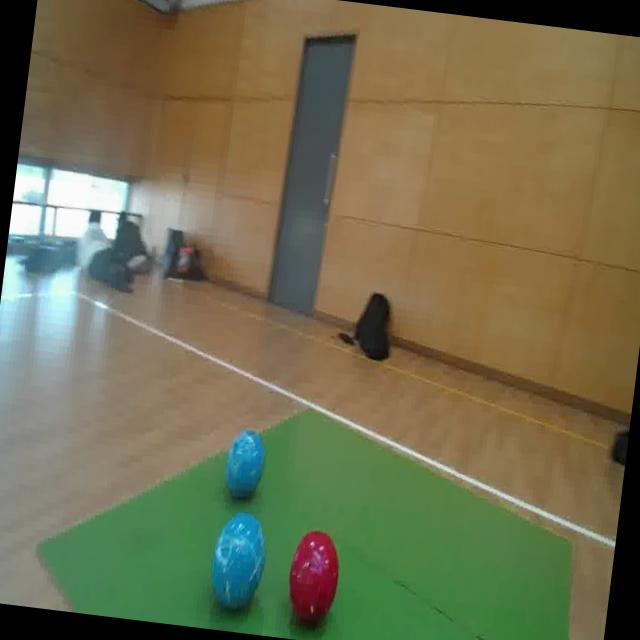blue_ball: (203, 508, 272, 614), (222, 426, 268, 502)
red_ball: (280, 523, 344, 620)
